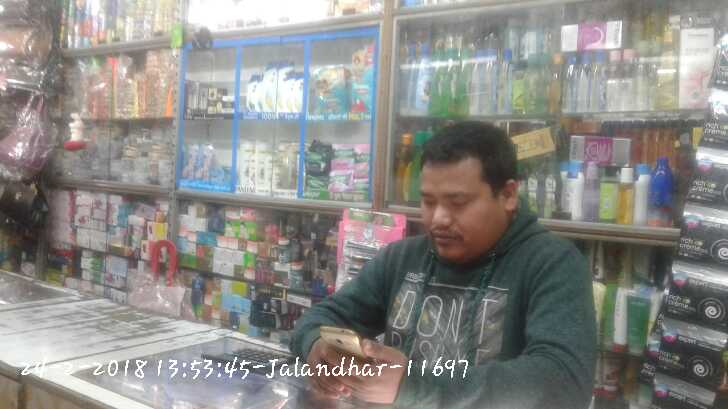venus: (186, 143, 212, 183), (212, 165, 233, 183)
